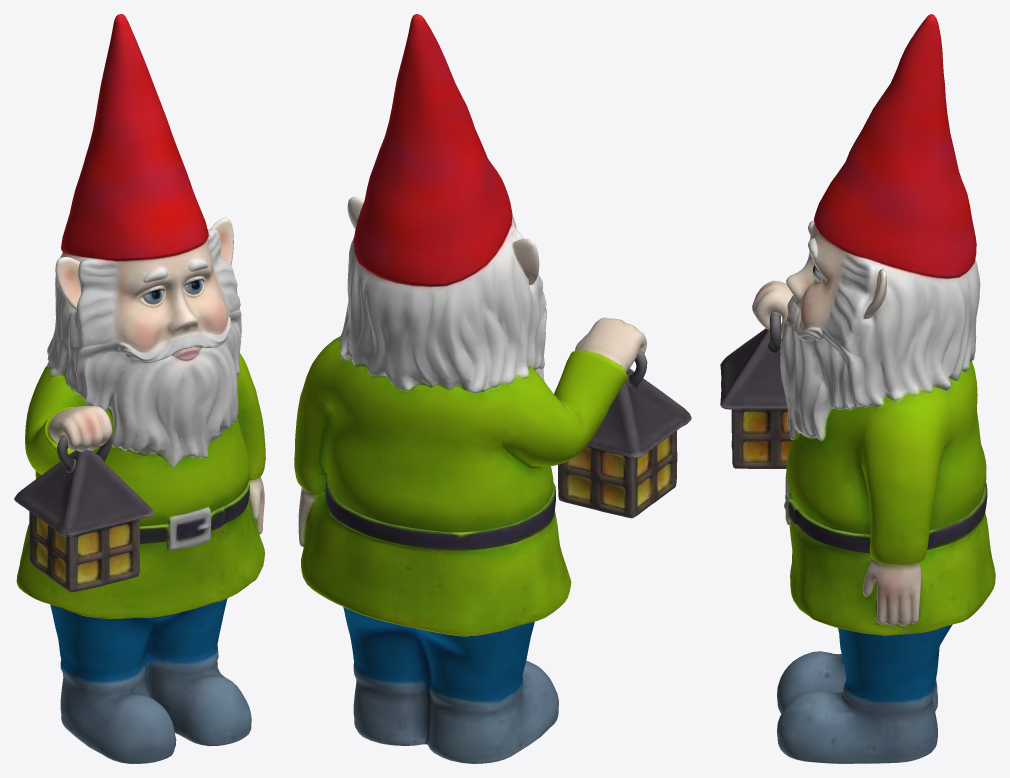
3 renders of one model, left to right at view 1: azimuth 30°, elevation 25°; view 2: azimuth 150°, elevation 25°; view 3: azimuth 270°, elevation 25°, orthographic. The views are drawn at different scales.
Visible parts, largest first — view 1: fig-garden-gnome; view 2: fig-garden-gnome; view 3: fig-garden-gnome.
Part boxes in pixels (x1,y1,x2,y2): fig-garden-gnome: [14, 14, 265, 763]; fig-garden-gnome: [294, 14, 691, 763]; fig-garden-gnome: [720, 14, 995, 763].
Size of the model in its own units: 0.0603 by 0.14 by 0.049.
1 material, 1 textured.
